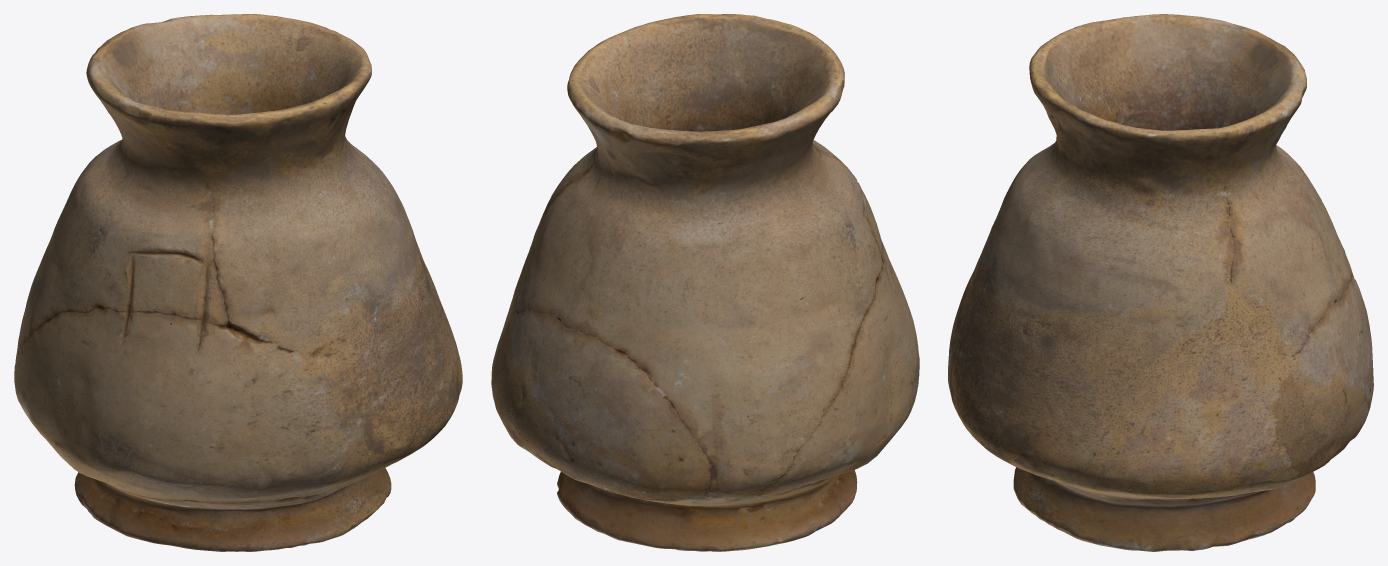
The model's file is 商“∏”符号陶壶.glb.
The picture shows the model from 3 angles, left to right: view 1: azimuth 30°, elevation 25°; view 2: azimuth 150°, elevation 25°; view 3: azimuth 270°, elevation 25°; orthographic projection. The views are drawn at different scales.
Parts seen in each view (by area): view 1: defaultobject; view 2: defaultobject; view 3: defaultobject.
Part boxes in pixels (x1,y1,x2,y2): defaultobject: [14, 14, 462, 551]; defaultobject: [491, 14, 919, 551]; defaultobject: [948, 14, 1373, 551].
Size of the model in its own units: 405 by 448 by 407.
Materials: 1 (1 with a texture image).
